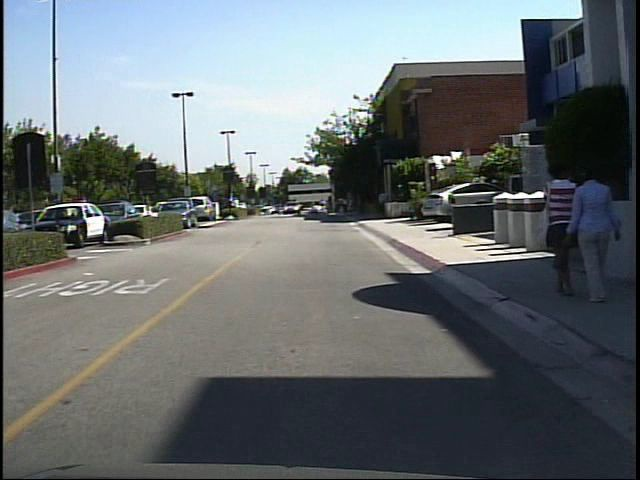person: (564, 160, 621, 302), (540, 156, 579, 299), (229, 192, 245, 219), (319, 196, 332, 221)
